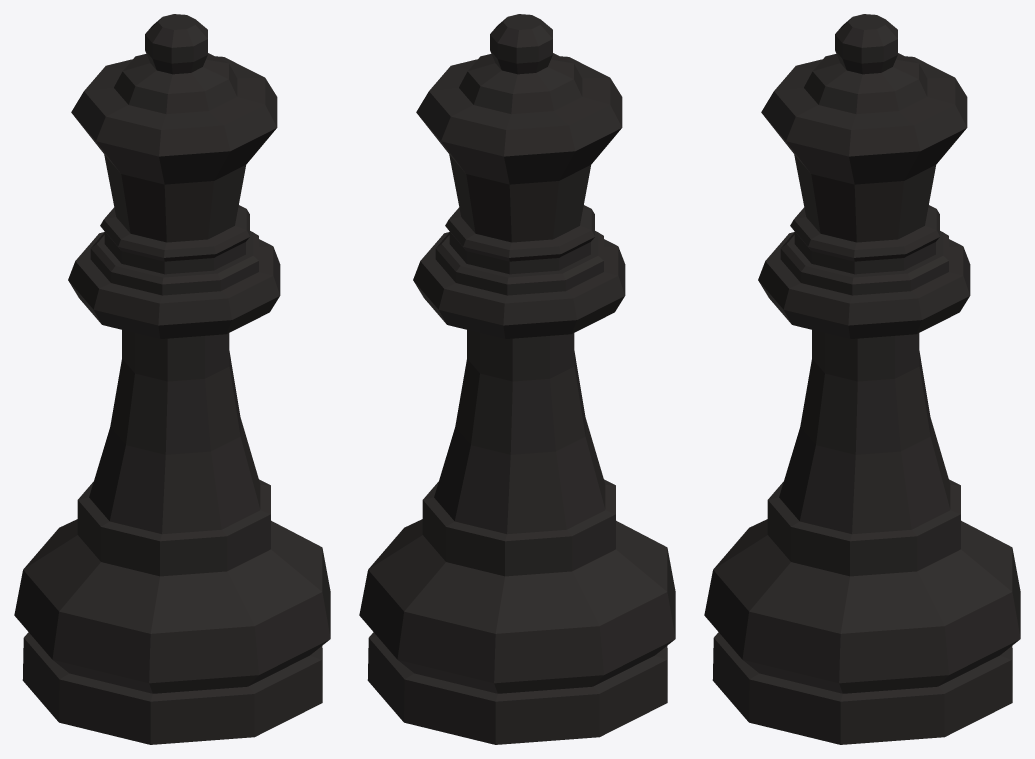
File: oqueen.FBX
The picture shows the model from 3 angles, left to right: view 1: azimuth 30°, elevation 25°; view 2: azimuth 150°, elevation 25°; view 3: azimuth 270°, elevation 25°; orthographic projection.
Parts seen in each view (by area): view 1: Black_Queen_mesh; view 2: Black_Queen_mesh; view 3: Black_Queen_mesh.
Boxes of the visible parts, x1=… form: Black_Queen_mesh: x1=14, y1=14, x2=330, y2=744; Black_Queen_mesh: x1=359, y1=14, x2=675, y2=744; Black_Queen_mesh: x1=704, y1=14, x2=1020, y2=744.
Size of the model in its own units: 2.89 by 2.84 by 6.55.
Materials: 1 (1 with a texture image).
